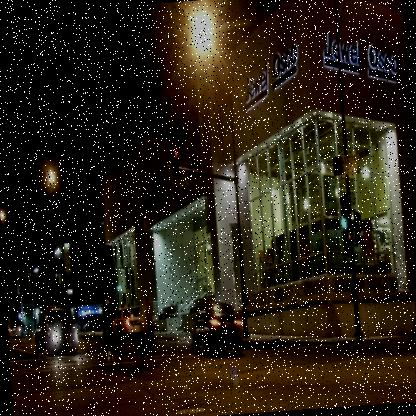Car: (33, 301, 146, 357), (190, 297, 244, 360), (35, 306, 80, 355), (114, 307, 144, 346), (86, 314, 104, 330), (11, 322, 26, 340)
